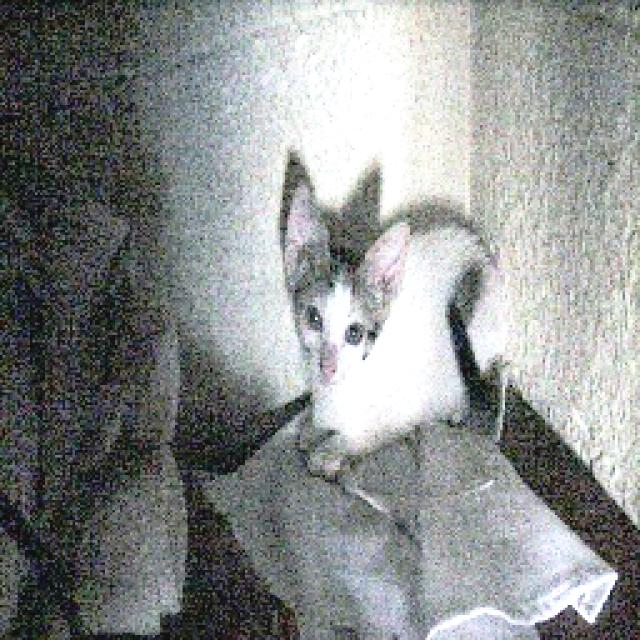cat: (283, 182, 514, 476)
